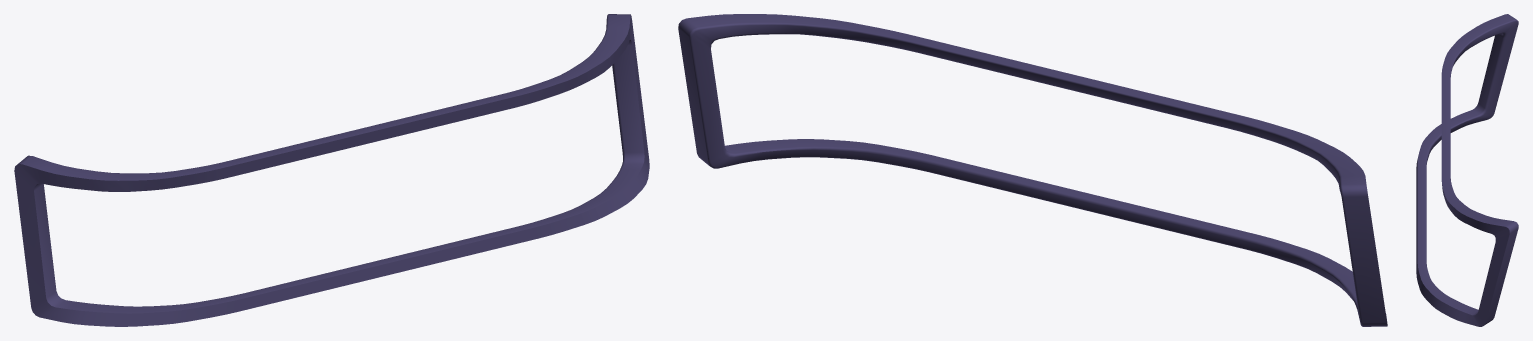
Rendered from Mh_Wall_01_WindowFrame.fbx.
The picture shows the model from 3 angles, left to right: view 1: azimuth 30°, elevation 25°; view 2: azimuth 150°, elevation 25°; view 3: azimuth 270°, elevation 25°; orthographic projection. The views are drawn at different scales.
Parts seen in each view (by area): view 1: Mh_Wall_01_WindowFrame; view 2: Mh_Wall_01_WindowFrame; view 3: Mh_Wall_01_WindowFrame.
Part boxes in pixels (box(x1,y1,x2,y2)): Mh_Wall_01_WindowFrame: box(14, 14, 649, 326); Mh_Wall_01_WindowFrame: box(678, 14, 1387, 326); Mh_Wall_01_WindowFrame: box(1416, 14, 1518, 326).
Size of the model in its own units: 2045 by 442 by 409.
